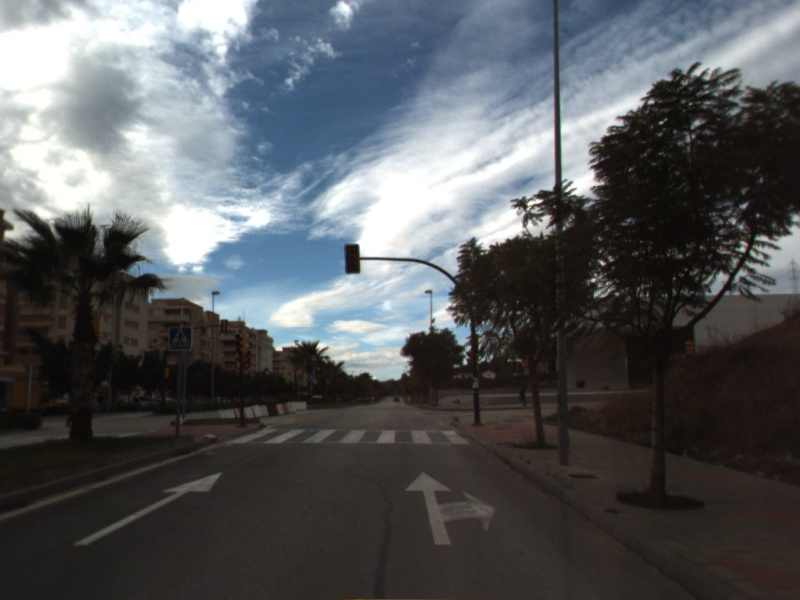STRAIGHT: (71, 470, 224, 548)
STRAIGHT_RIGHT: (403, 469, 499, 547)
